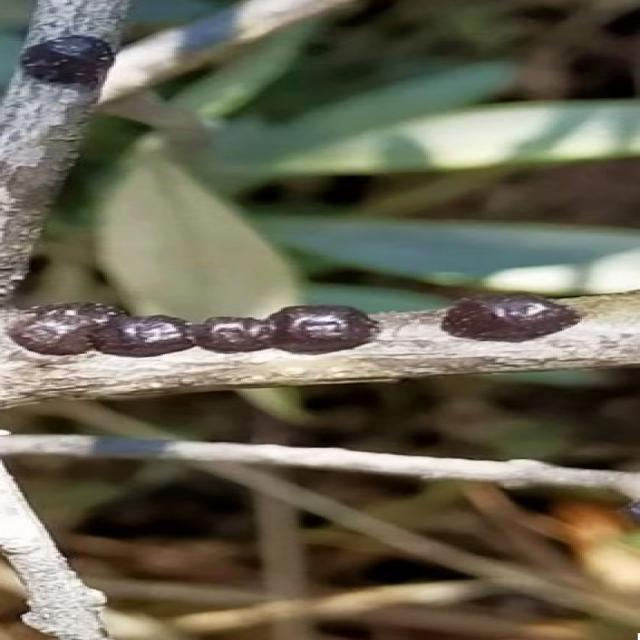Black Scale: (9, 303, 379, 357), (442, 293, 582, 342), (25, 35, 111, 89)
